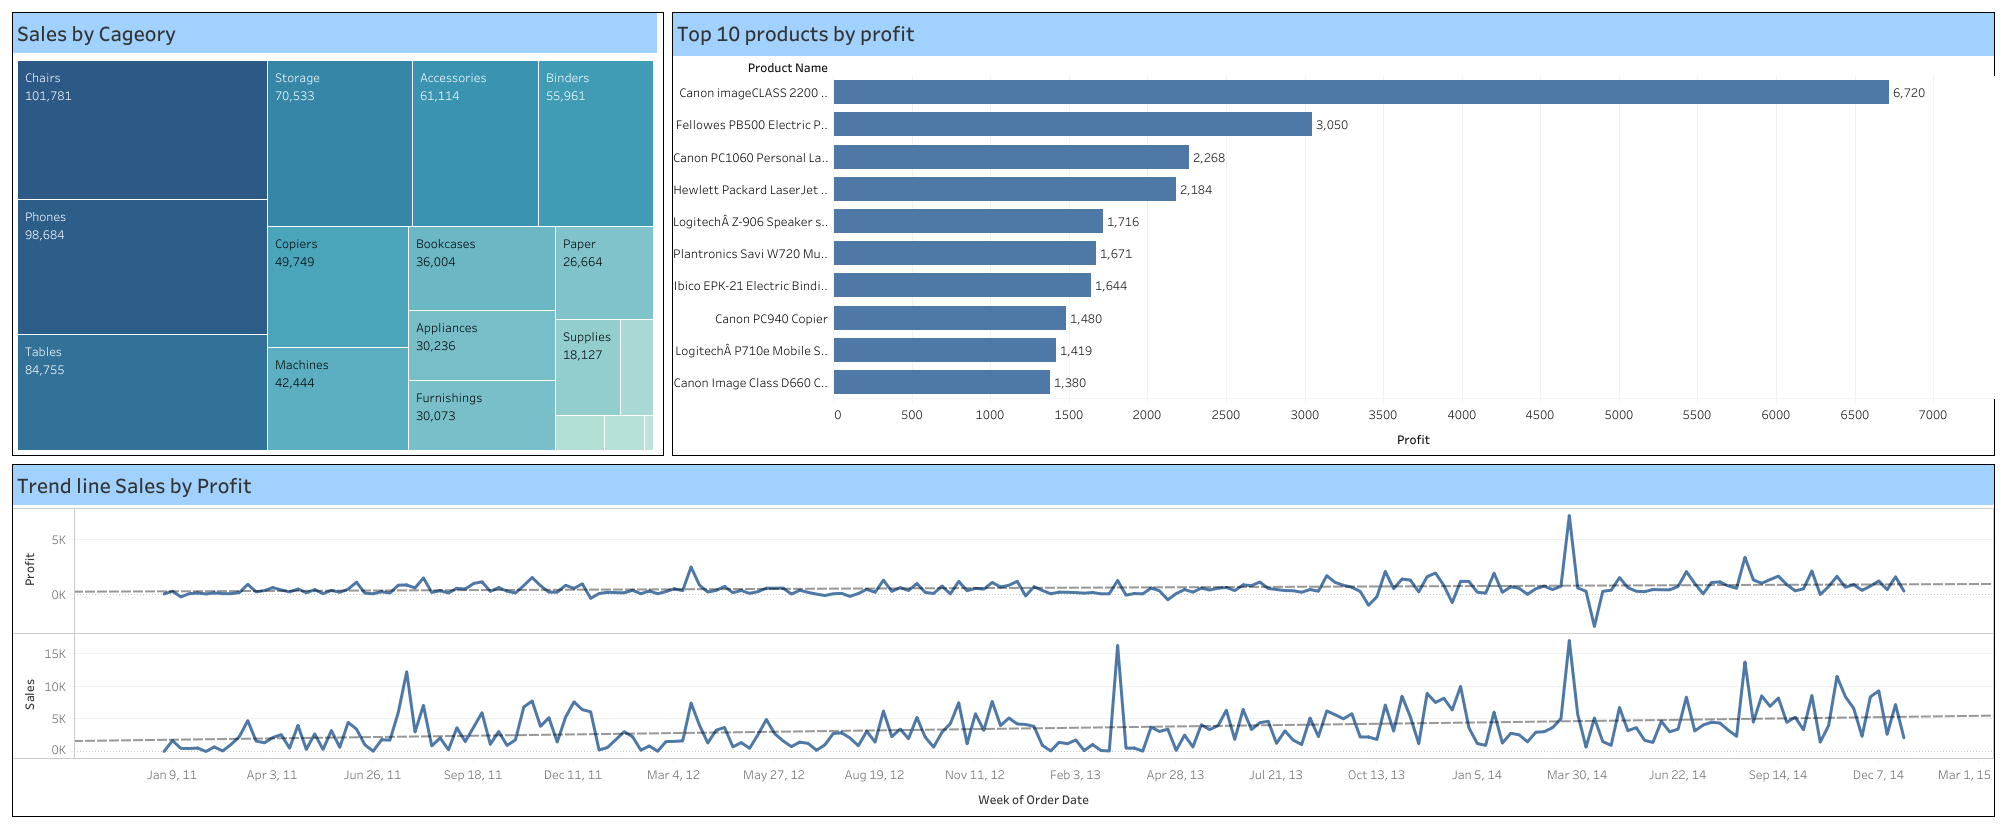

The page's visual inventory and layout, read from the dashboard file:
{"tool":"tableau","page":{"name":"Dashboard Walmart (Amazon 5_Raw)","canvas":[1000,1000],"units":"permille","ordinal":0},"visuals":[{"type":"worksheet","title":"Sales by Cageory","mark":"Automatic","box":[4.2,10,328.9,544.3]},{"type":"worksheet","title":"Sheet 2","mark":"Automatic","rows":["Product Name"],"cols":["Profit"],"box":[333.1,10,662.6,544.3]},{"type":"worksheet","title":"Sheet 3","mark":"Automatic","rows":["Profit","Sales"],"cols":["Order Date"],"box":[4.2,554.3,991.5,435.7]}]}

Visuals, with their boxes on the dashboard's canvas, which has no fixed pixel size, in thousandths of its width and height (x1, y1, x2, y2). These are canvas units, not pixel positions in the 2006x828 screenshot, which may show the page scaled, cropped or inside an application window:
"Sales by Cageory" worksheet: (x1=4, y1=10, x2=333, y2=554)
"Sheet 2" worksheet: (x1=333, y1=10, x2=996, y2=554)
"Sheet 3" worksheet: (x1=4, y1=554, x2=996, y2=990)
